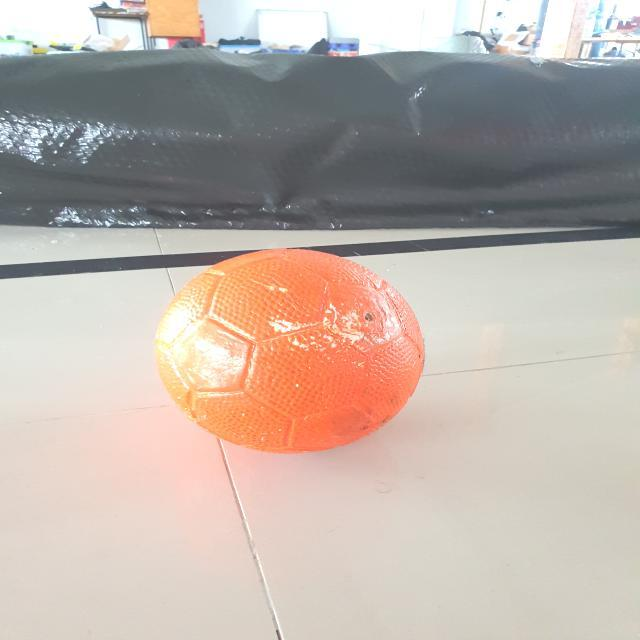bola: (144, 238, 440, 471)
